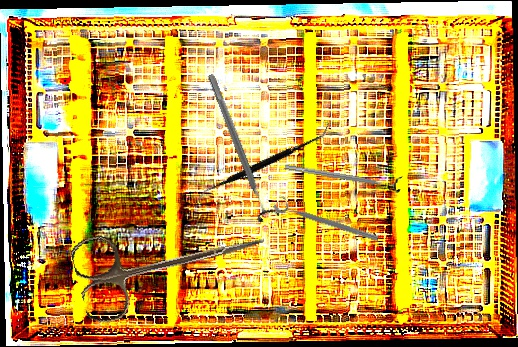Fixation Ring: (199, 70, 281, 224), (271, 193, 383, 245), (283, 157, 403, 195)
Iris Scissors: (68, 194, 274, 328)
Spatula Surgical: (194, 84, 332, 242)
